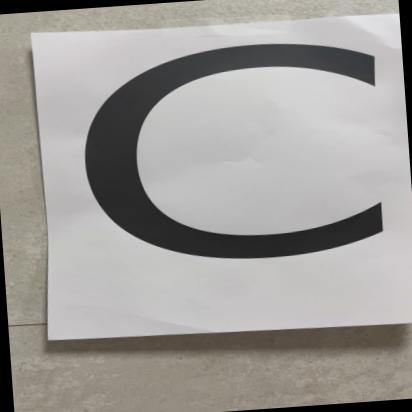seat: (18, 0, 412, 372)
